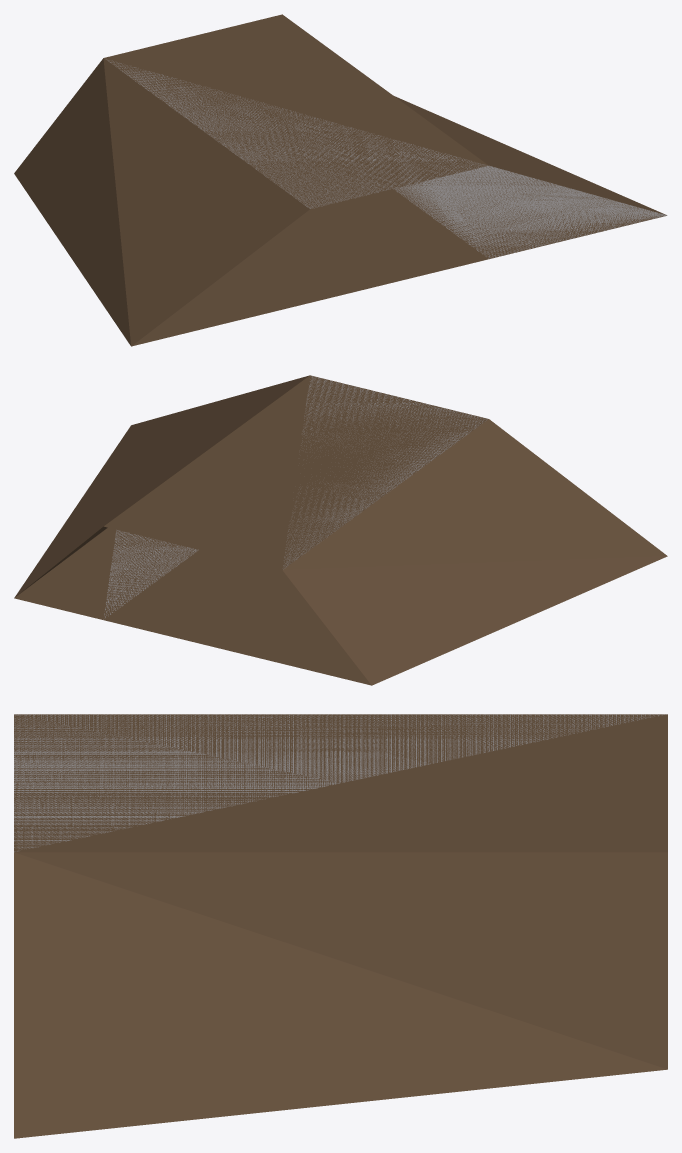
File: small_net.obj
3 renders of one model, top to bottom at view 1: azimuth 30°, elevation 25°; view 2: azimuth 150°, elevation 25°; view 3: azimuth 270°, elevation 25°, orthographic. The views are drawn at different scales.
Visible parts, largest first — view 1: Item Small fishing net 2026-10-24_17-48-04; view 2: Item Small fishing net 2026-10-24_17-48-04; view 3: Item Small fishing net 2026-10-24_17-48-04.
Boxes of the visible parts, x1,y1,x2,y2 form: Item Small fishing net 2026-10-24_17-48-04: (14,14,667,346); Item Small fishing net 2026-10-24_17-48-04: (14,375,667,685); Item Small fishing net 2026-10-24_17-48-04: (14,714,667,1138).
Bounding box in the file's own units: 48 × 8 × 32.
